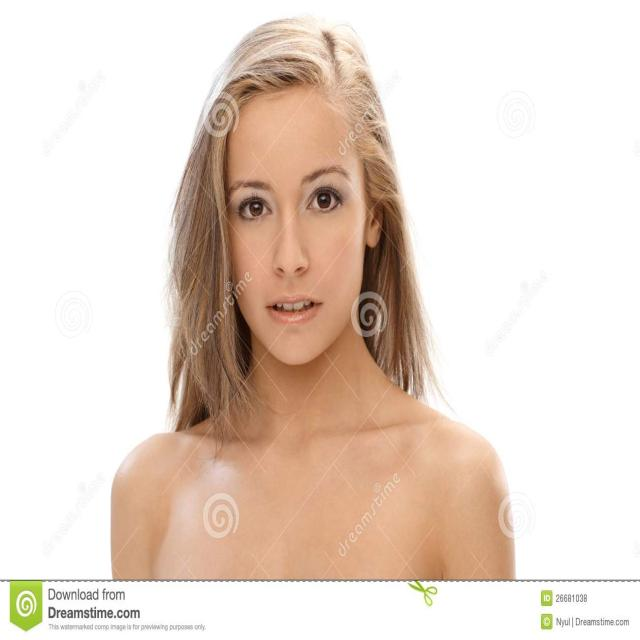mobile_phonerotation: (109, 14, 518, 578)
